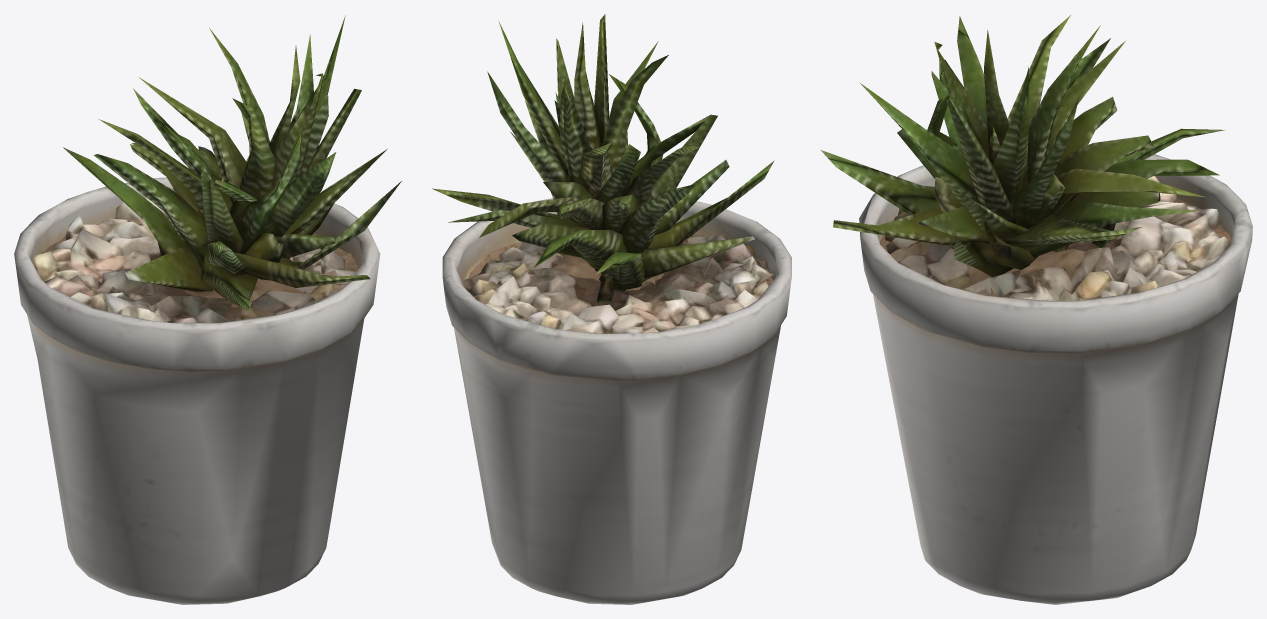
Rendered from potted_plant_04.glb.
3 views of the same model, side by side, from view 1: azimuth 30°, elevation 25°; view 2: azimuth 150°, elevation 25°; view 3: azimuth 270°, elevation 25° (orthographic). The views are drawn at different scales.
Visible parts, largest first — view 1: potted_plant_04_pot, potted_plant_04_plant, potted_plant_04_ground, potted_plant_04_dirt; view 2: potted_plant_04_pot, potted_plant_04_plant, potted_plant_04_ground, potted_plant_04_dirt; view 3: potted_plant_04_pot, potted_plant_04_plant, potted_plant_04_ground, potted_plant_04_dirt.
Part boxes in pixels (<box>): potted_plant_04_pot: <box>14,177,380,604</box>; potted_plant_04_plant: <box>63,15,401,310</box>; potted_plant_04_ground: <box>33,197,355,322</box>; potted_plant_04_dirt: <box>34,223,358,307</box>; potted_plant_04_pot: <box>442,198,791,604</box>; potted_plant_04_plant: <box>432,14,774,303</box>; potted_plant_04_ground: <box>461,233,774,333</box>; potted_plant_04_dirt: <box>468,233,772,294</box>; potted_plant_04_pot: <box>859,144,1252,604</box>; potted_plant_04_plant: <box>820,15,1224,277</box>; potted_plant_04_ground: <box>885,176,1230,301</box>; potted_plant_04_dirt: <box>879,198,1231,296</box>.
Size of the model in its own units: 0.1665 by 0.2619 by 0.1832.
1 material, 1 textured.
